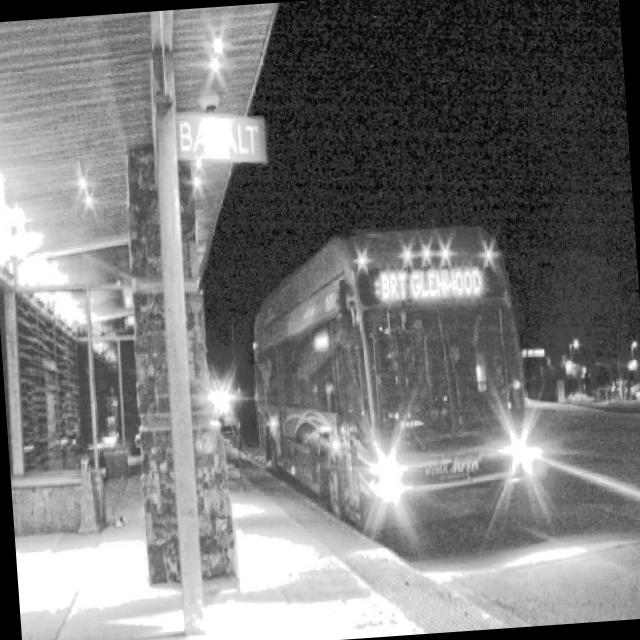Bus: (245, 237, 558, 616)
